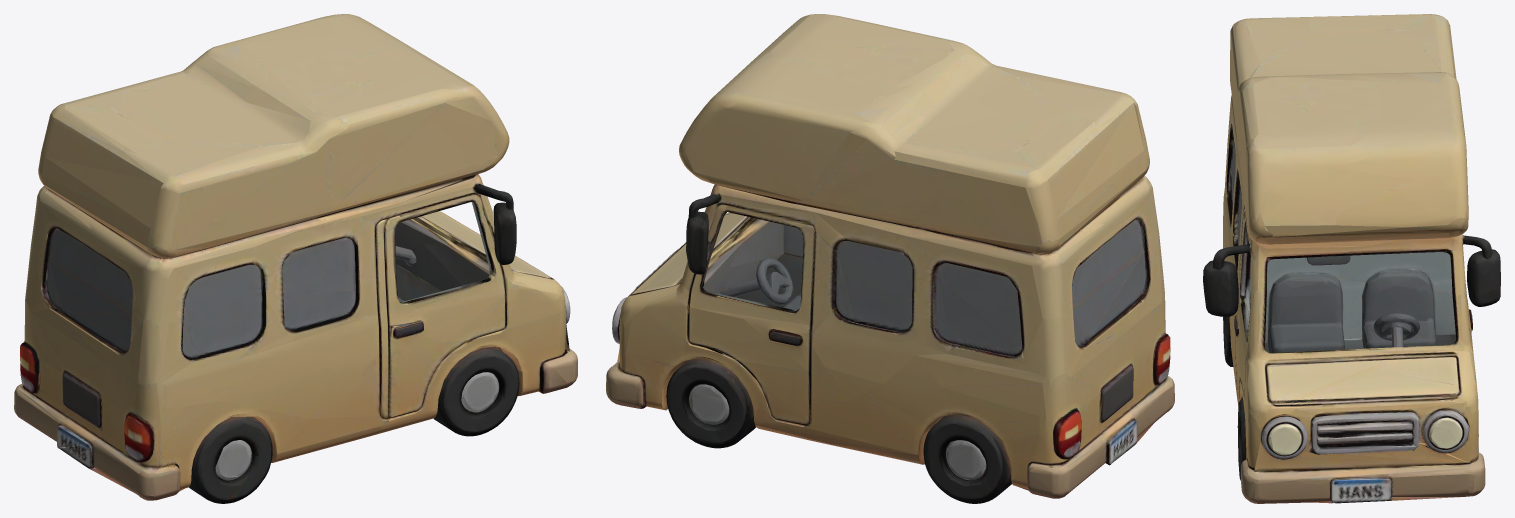
The model's file is campervan-optimized.glb.
The picture shows the model from 3 angles, left to right: view 1: azimuth 30°, elevation 25°; view 2: azimuth 150°, elevation 25°; view 3: azimuth 270°, elevation 25°; orthographic projection. The views are drawn at different scales.
Visible parts, largest first — view 1: output_unwrapped; view 2: output_unwrapped; view 3: output_unwrapped.
Boxes of the visible parts, <box> form: output_unwrapped: <box>14,14,577,503</box>; output_unwrapped: <box>606,14,1174,503</box>; output_unwrapped: <box>1203,14,1500,503</box>.
Size of the model in its own units: 2 by 1.45 by 1.17.
1 material, 1 textured.
